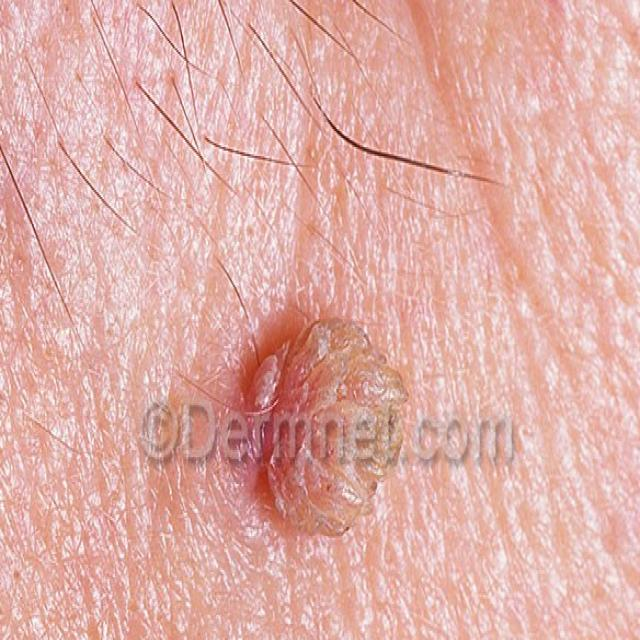Warts: (219, 293, 418, 572)
